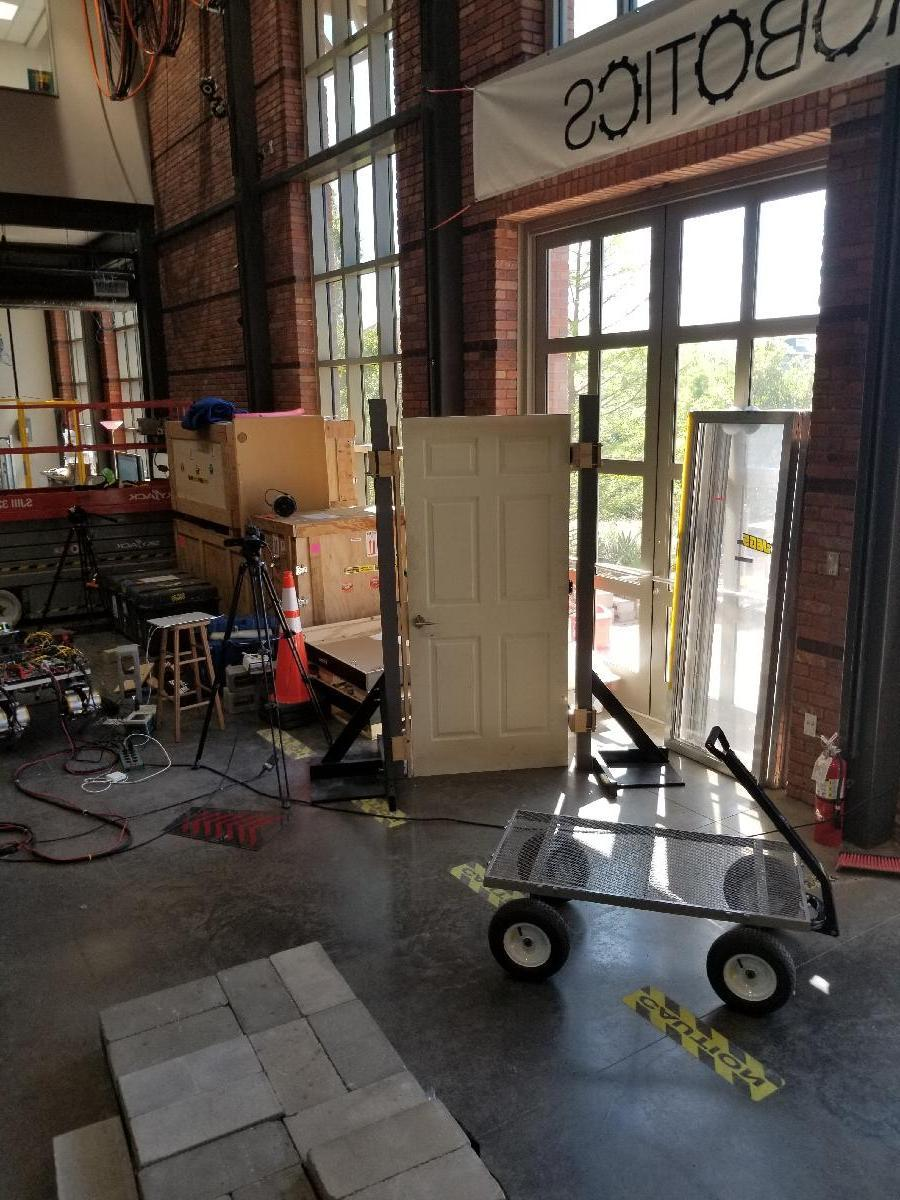door: (398, 406, 572, 781)
handle: (411, 612, 438, 632)
